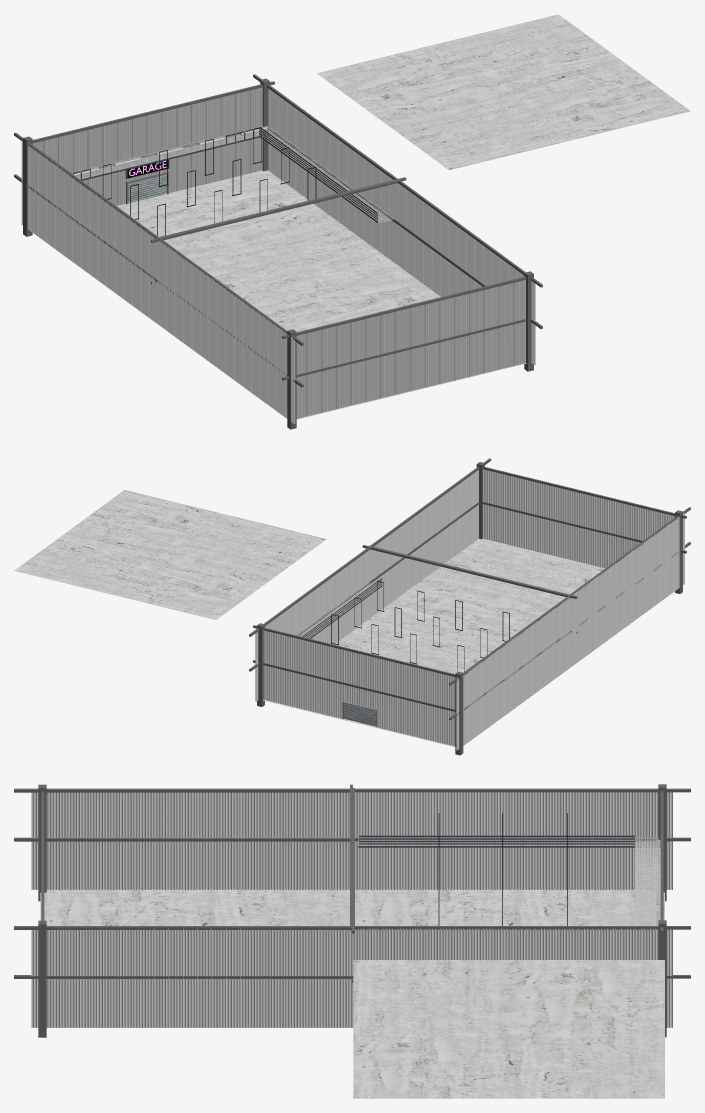
Rendered from Warehouse internal.fbx.
The picture shows the model from 3 angles, top to bottom: view 1: azimuth 30°, elevation 25°; view 2: azimuth 150°, elevation 25°; view 3: azimuth 270°, elevation 25°; orthographic projection. The views are drawn at different scales.
Visible parts, largest first — view 1: Plane_005, Cube_029.001, Plane_004, Cube_029, Cube_023.001, Cube_023, Cube_027, Plane_004__1_, Cube_023.002, Cube_039.001, Cube_039, Plane (+2 smaller); view 2: Plane_005, Plane_004__1_, Cube_029, Cube_029.001, Cube_023, Cube_023.001, Cube_023.002, Cube_027, Plane_004, Cube_039, Cube_039.001, Plane (+2 smaller); view 3: Plane_005, Cube_023.002, Cube_023.001, Cube_023, Plane_004__1_, Plane_004, Cube_027, Cube_039.001, Plane, Cube_039.
Part boxes in pixels (<box>): Plane_005: <box>317,14,690,170</box>; Cube_029.001: <box>296,280,525,418</box>; Plane_004: <box>30,170,392,322</box>; Cube_029: <box>32,87,262,205</box>; Cube_023.001: <box>158,240,295,423</box>; Cube_023: <box>21,140,157,323</box>; Cube_027: <box>268,88,398,265</box>; Plane_004__1_: <box>160,261,526,419</box>; Cube_023.002: <box>398,183,535,365</box>; Cube_039.001: <box>151,179,542,429</box>; Cube_039: <box>14,74,406,282</box>; Plane: <box>71,126,394,222</box>; Plane_005: <box>14,490,326,619</box>; Plane_004__1_: <box>370,538,678,664</box>; Cube_029: <box>263,630,455,746</box>; Cube_029.001: <box>483,469,674,568</box>; Cube_023: <box>456,597,570,750</box>; Cube_023.001: <box>571,513,684,666</box>; Cube_023.002: <box>370,470,478,617</box>; Cube_027: <box>255,549,370,701</box>; Plane_004: <box>263,618,569,747</box>; Cube_039: <box>249,545,571,755</box>; Cube_039.001: <box>369,458,690,633</box>; Plane: <box>297,578,382,638</box>; Plane_005: <box>353,960,664,1098</box>; Cube_023.002: <box>31,928,352,1027</box>; Cube_023.001: <box>31,792,349,889</box>; Cube_023: <box>355,792,672,889</box>; Plane_004__1_: <box>40,889,364,1027</box>; Plane_004: <box>355,889,664,925</box>; Cube_027: <box>352,928,672,1027</box>; Cube_039.001: <box>14,784,352,1037</box>; Plane: <box>358,835,660,925</box>; Cube_039: <box>352,784,690,1037</box>.
Size of the model in its own units: 5553 by 947 by 5121.
